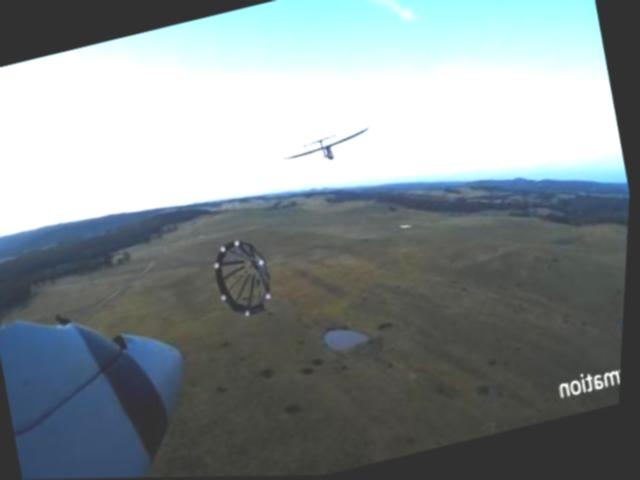uav: (276, 114, 380, 177)
